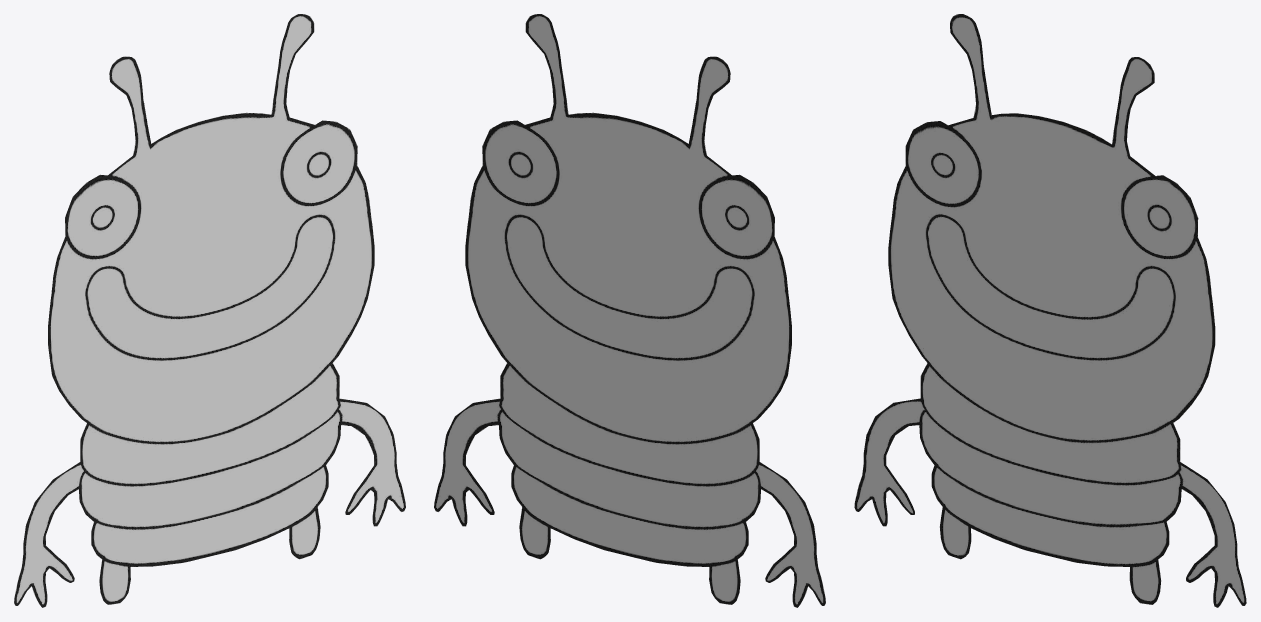
The model's file is 36_tori_fix.fbx.
3 renders of one model, left to right at view 1: azimuth 30°, elevation 25°; view 2: azimuth 150°, elevation 25°; view 3: azimuth 330°, elevation 25°, orthographic.
Visible parts, largest first — view 1: pPlane1; view 2: pPlane1; view 3: pPlane1.
Part boxes in pixels (<box>): pPlane1: <box>14,14,405,607</box>; pPlane1: <box>434,14,825,607</box>; pPlane1: <box>854,14,1246,607</box>.
Bounding box in the file's own units: 9.62 × 12.8 × 7.22e-06.
Materials: 1 (1 with a texture image).
